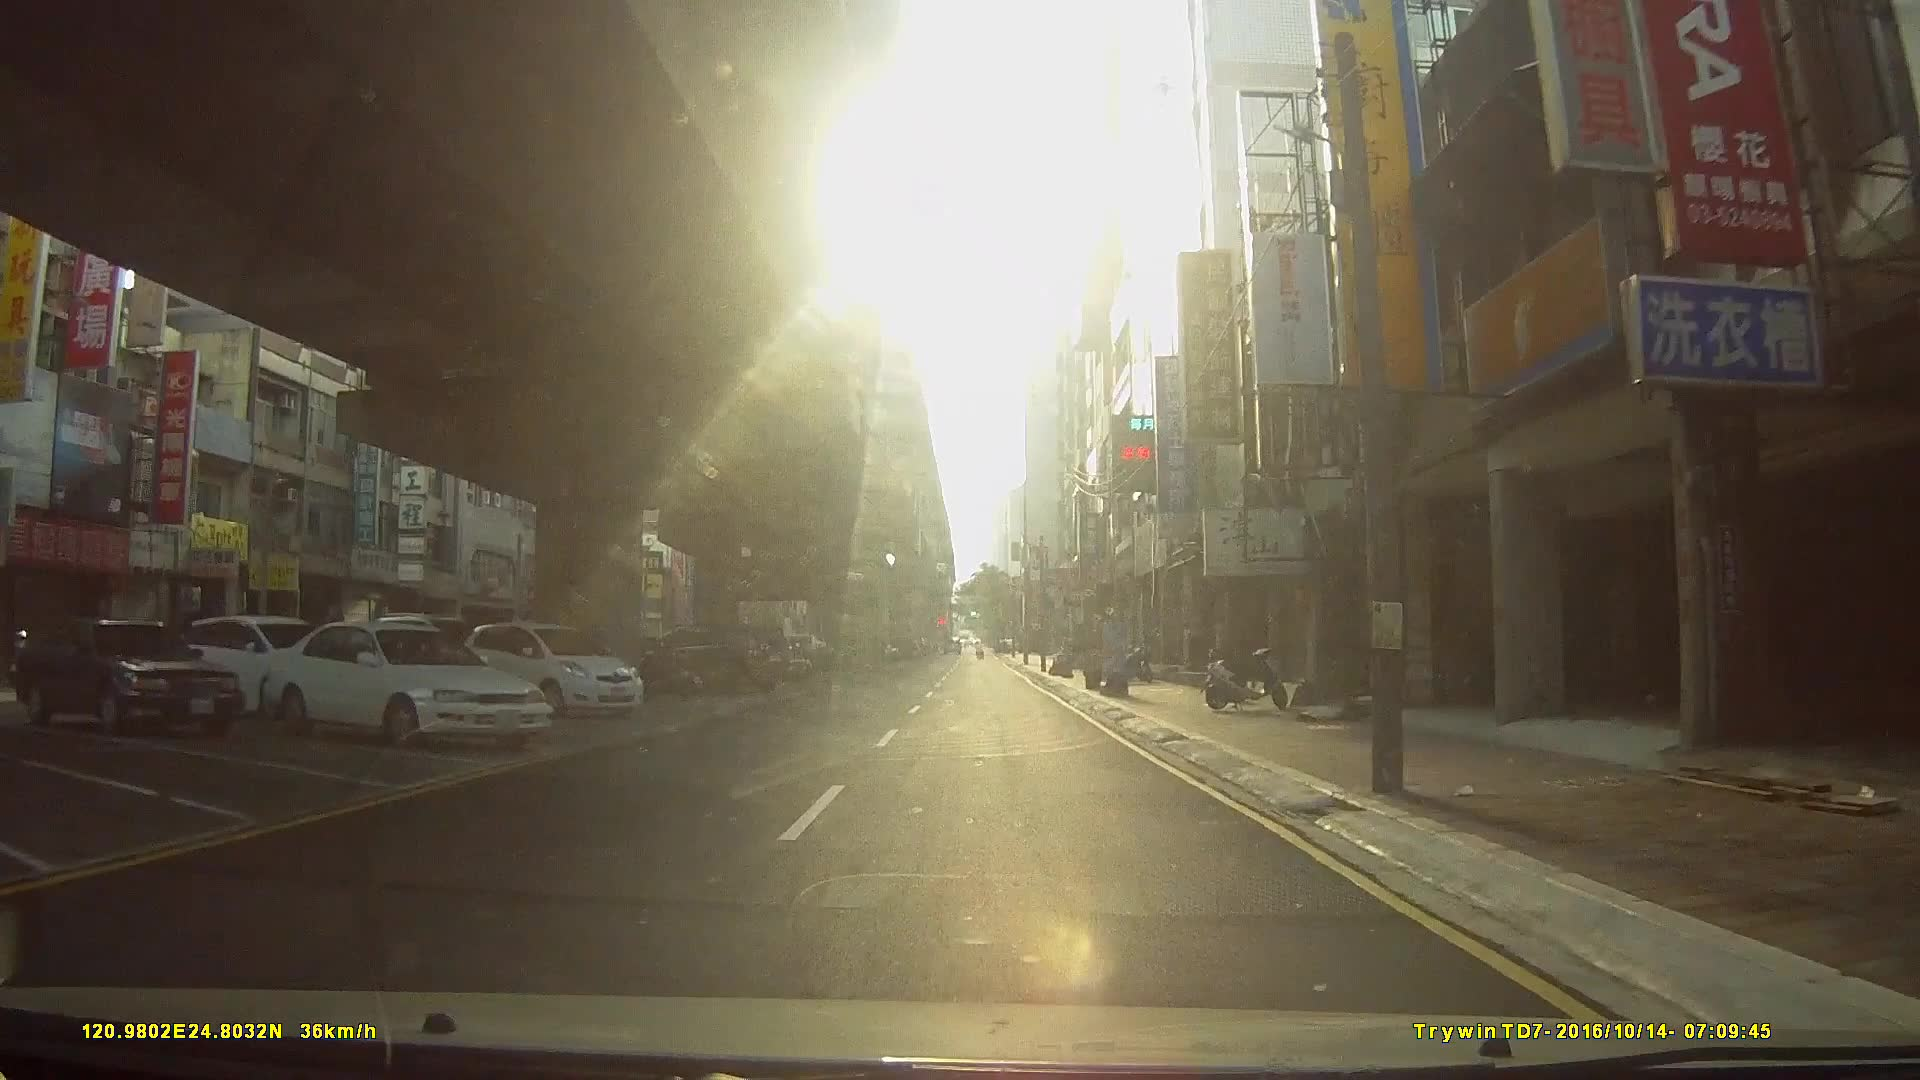vehicle: (258, 621, 549, 750), (15, 618, 245, 731), (459, 618, 644, 716), (181, 615, 334, 713)
